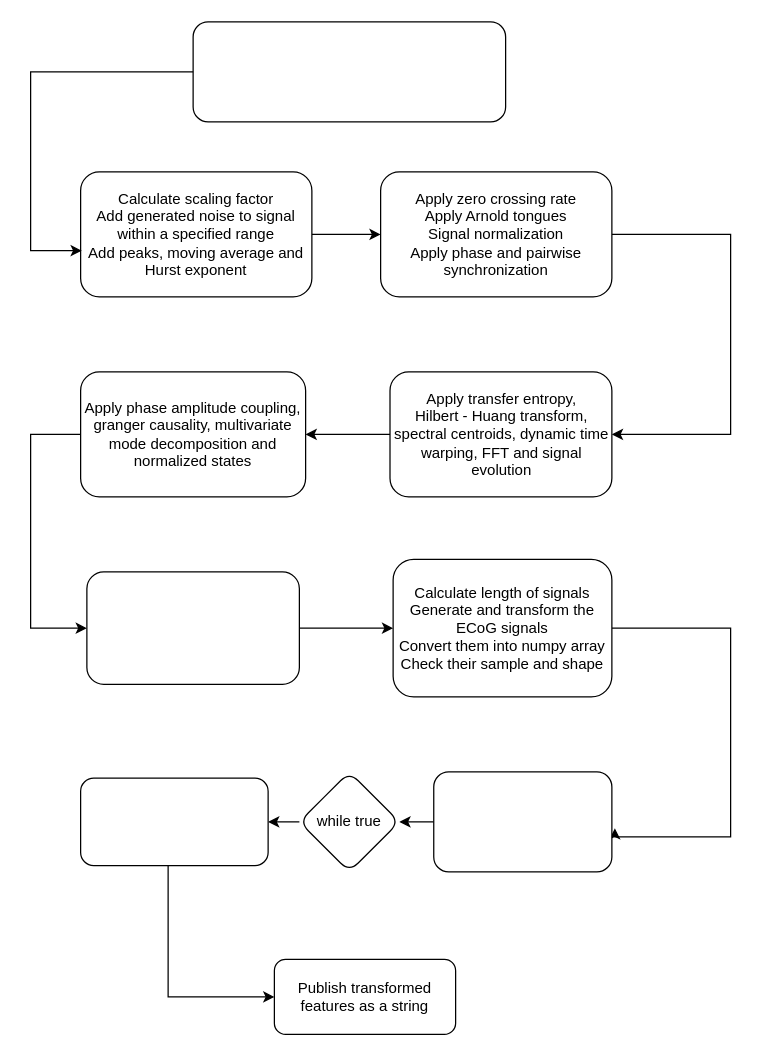
Some shapes in this 763 by 1056 pixel diagram are drawn without their labels. Each missing label, with the box of its shape:
Covert received string back to integer Calculate transformed features: (79, 777, 268, 866)
Import Libaries generate ECoG signals Scale signals Apply amplitude variability: (192, 21, 506, 122)
Main function: (86, 571, 299, 684)
ZeroMQ suscriber setup: (432, 771, 612, 872)
